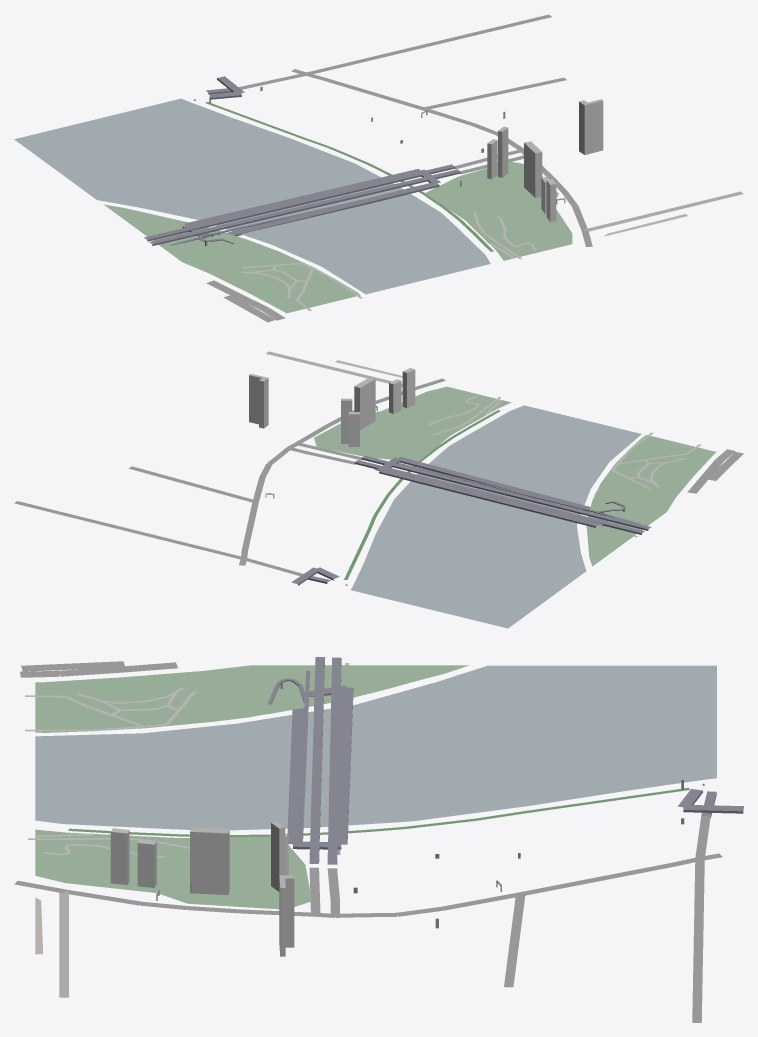
3 views of the same model, one above another, from view 1: azimuth 30°, elevation 25°; view 2: azimuth 150°, elevation 25°; view 3: azimuth 270°, elevation 25° (orthographic). The views are drawn at different scales.
Bounding box in the file's own units: 627 × 57.62 × 535.
